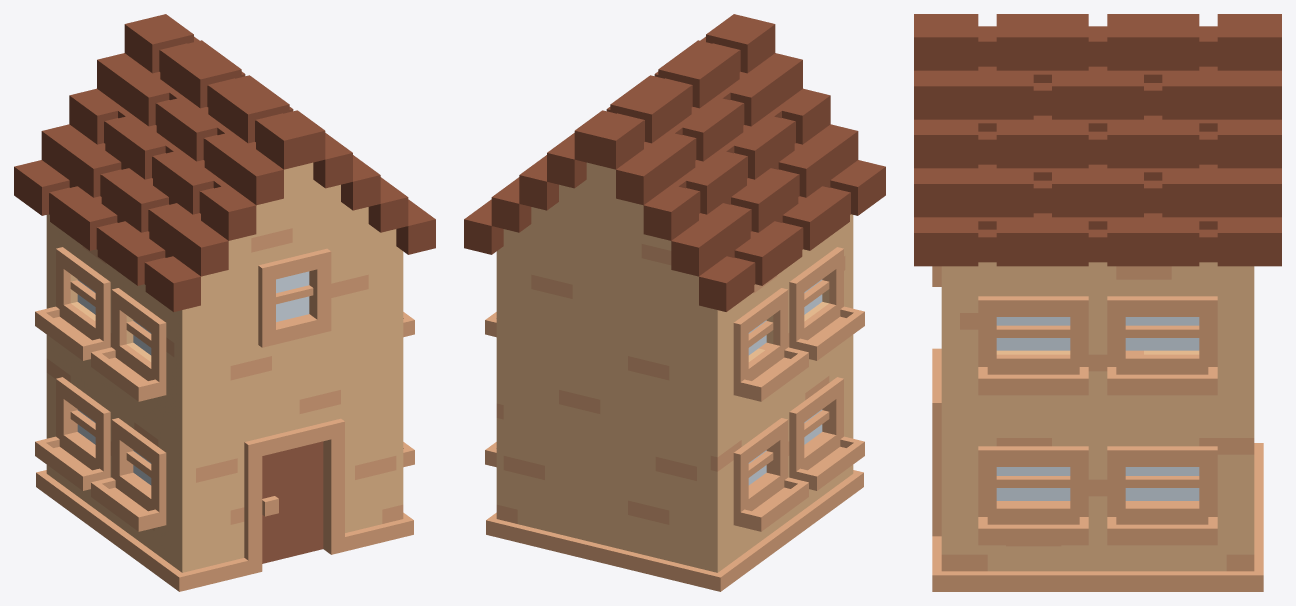
Rendered from village_house_3.obj.
3 renders of one model, left to right at view 1: azimuth 30°, elevation 25°; view 2: azimuth 150°, elevation 25°; view 3: azimuth 270°, elevation 25°, orthographic. The views are drawn at different scales.
Bounding box in the file's own units: 4 × 6 × 4.
1 material, 1 textured.
